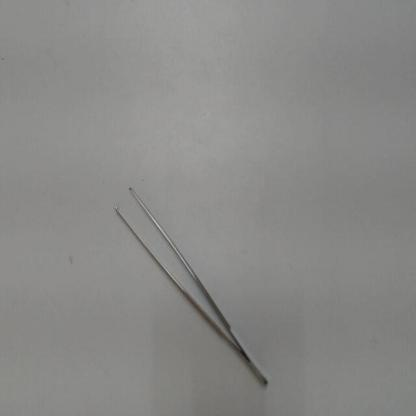Gillies Toothed Dissector: (109, 172, 276, 392)
